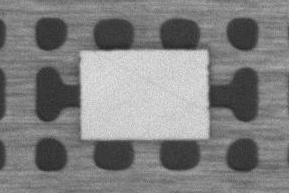DIE_CRACK: (144, 35, 289, 73)
